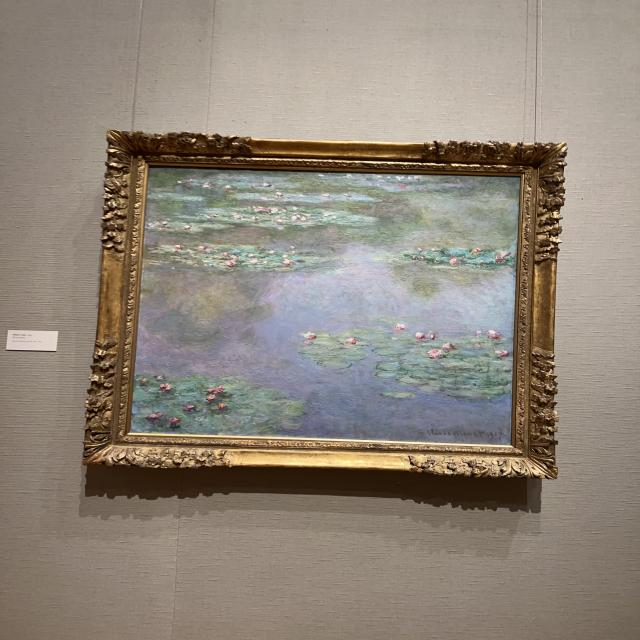lilies: (131, 166, 520, 445)
